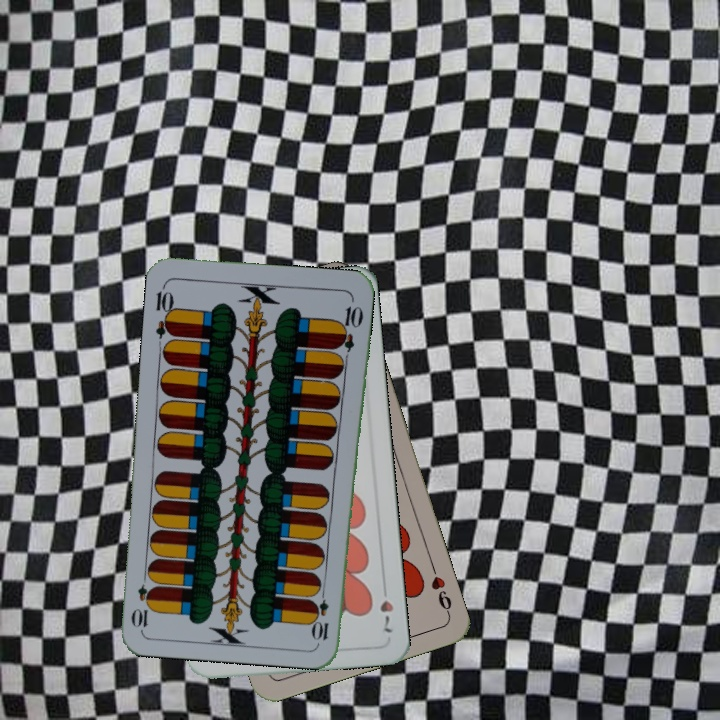E10: (152, 281, 178, 340), (312, 584, 332, 643)
H7: (376, 579, 396, 636)
H9: (427, 560, 455, 618)
